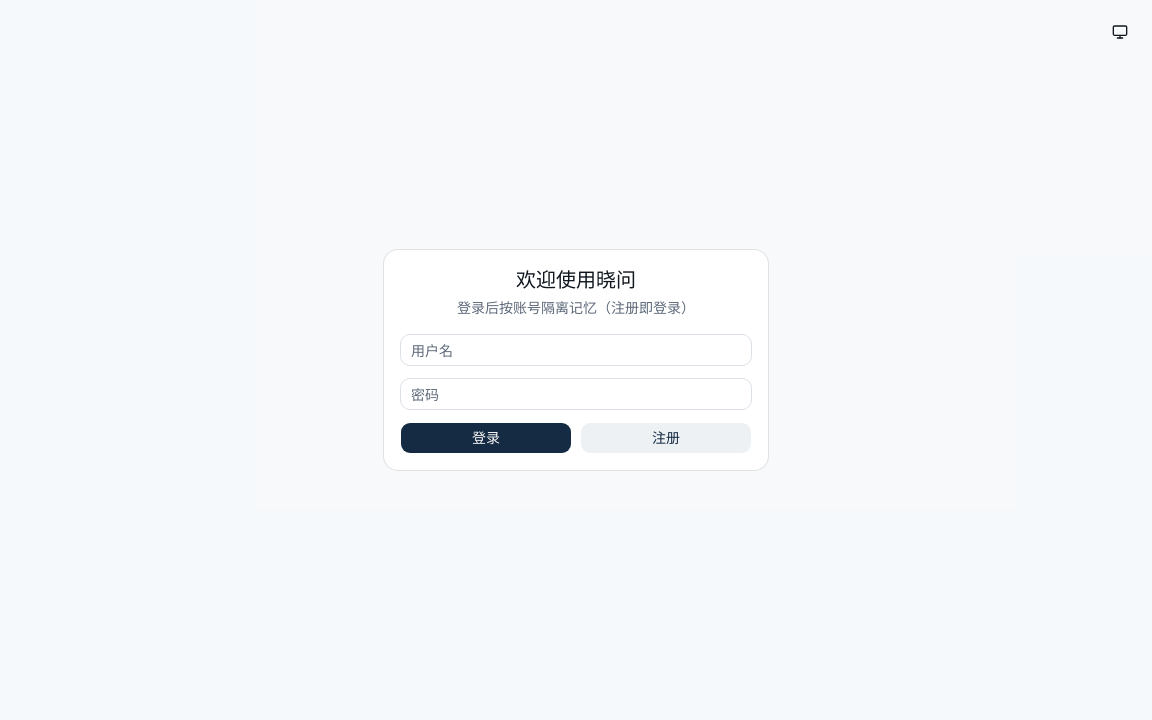
App 登录跳转 › 登录成功：自动切换主界面（无需手动刷新）
This screenshot has width=1152, height=720.
In the field labelled "用户名": (576, 350) [400, 334, 752, 366], type "tester"
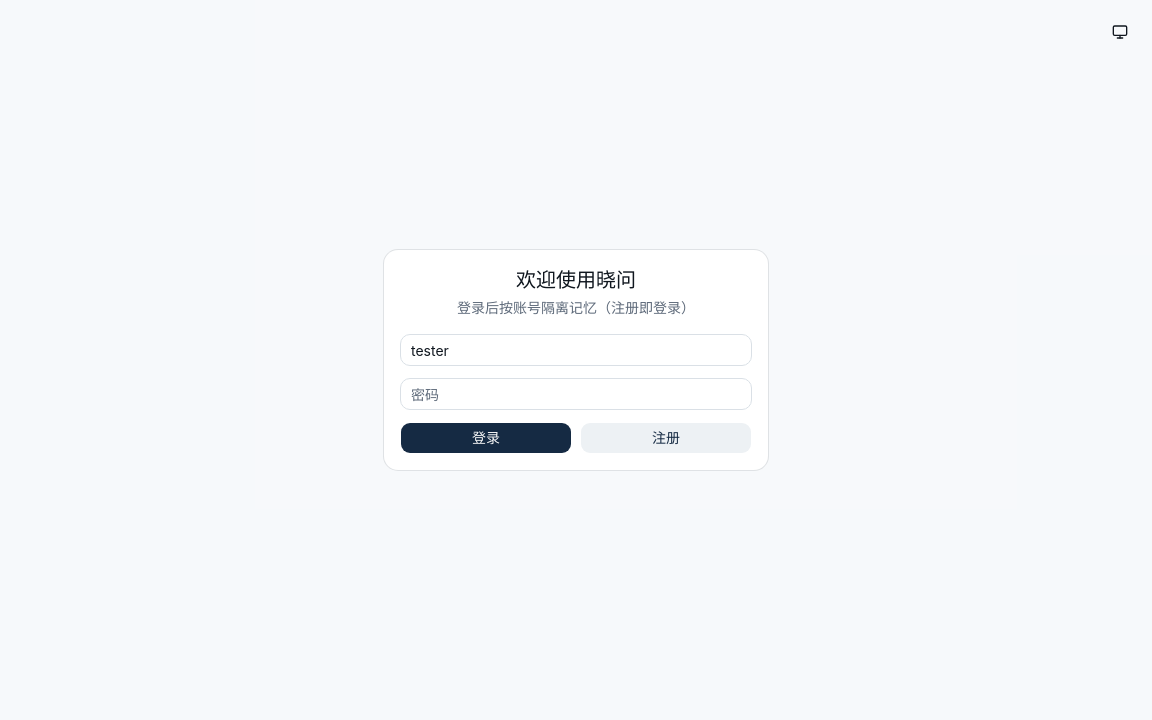
In the password field labelled "密码": (576, 394) [400, 378, 752, 410], type "test123456"
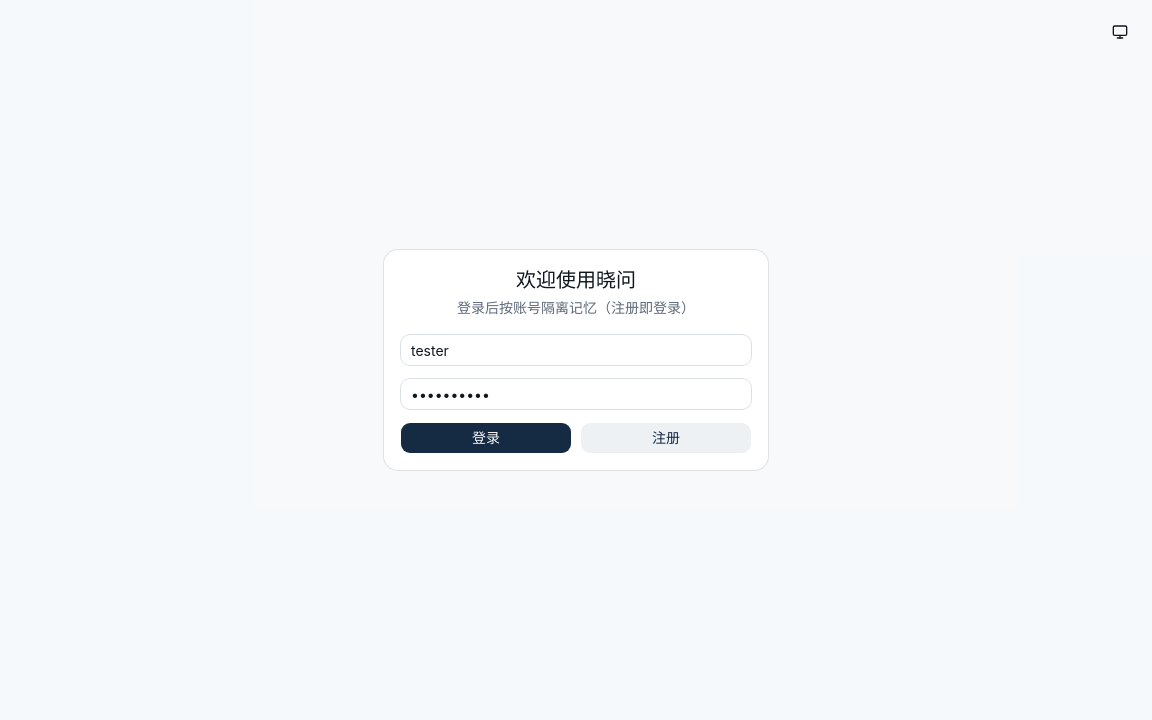
Click the button "登录": (486, 438) [400, 422, 572, 454]
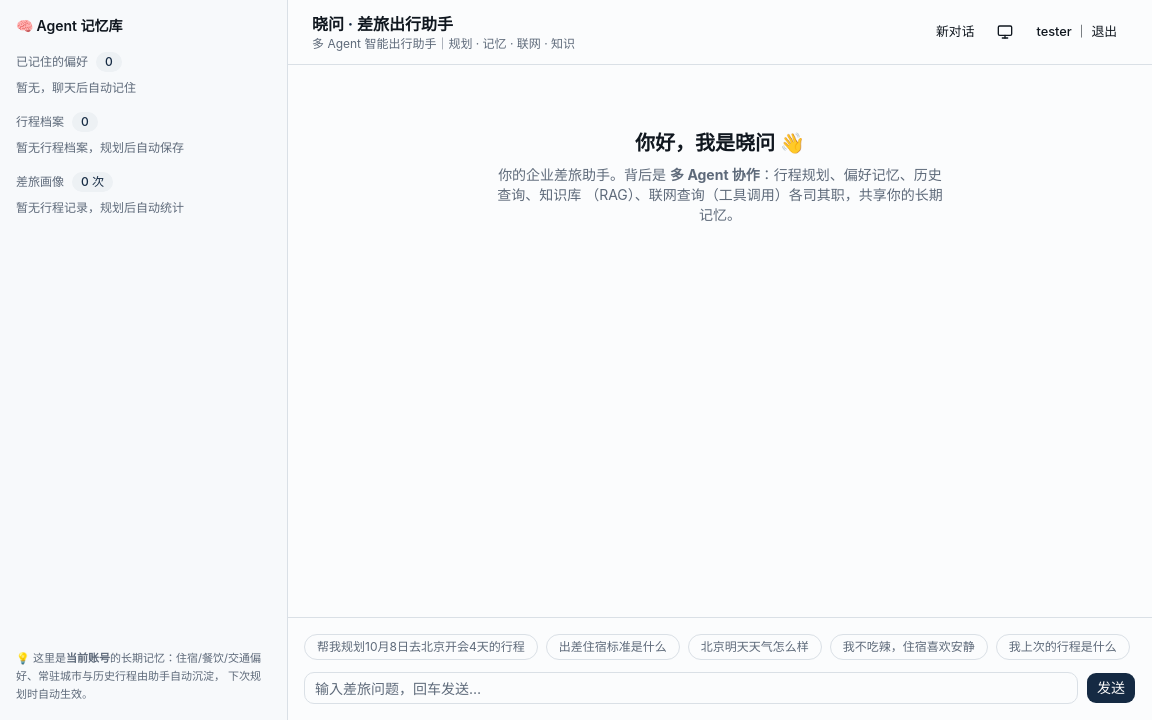
Expected: the heading "晓问 · 差旅出行助手" is shown, [312, 14, 453, 34]
Expected: the text "欢迎使用晓问" is gone
Expected: the text "你好，我是晓问 👋" is shown, [635, 131, 805, 155]
